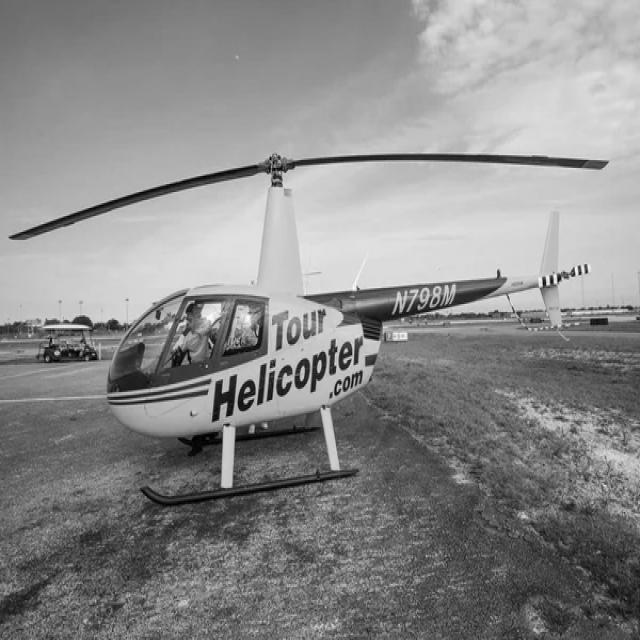Helicopter: (11, 154, 608, 502)
